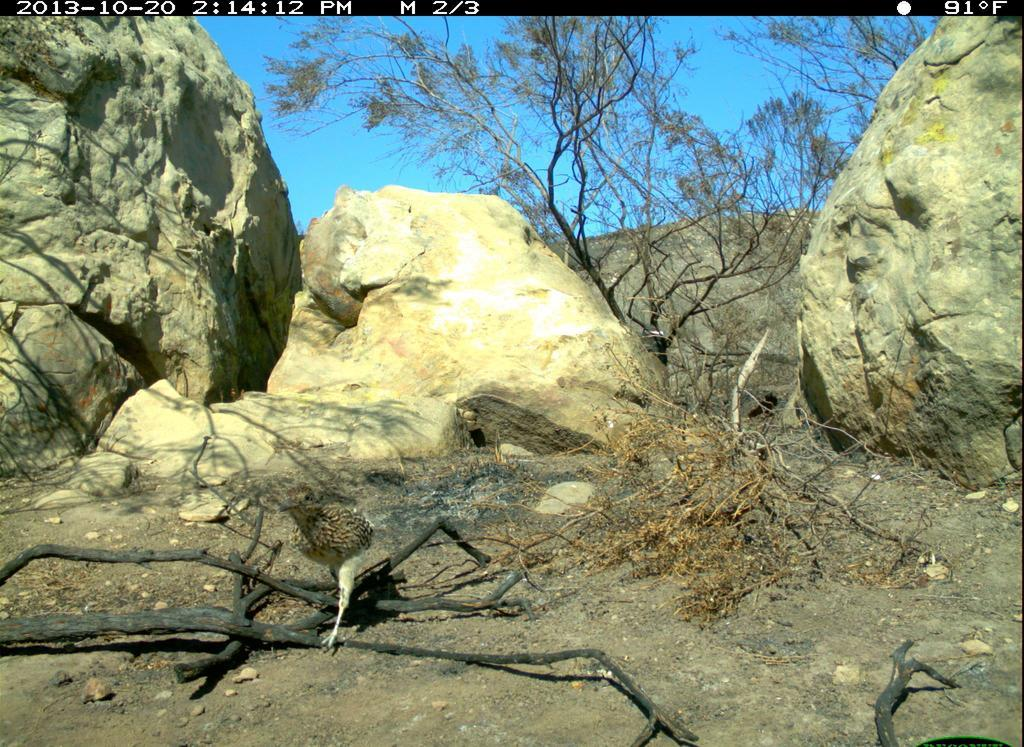bird: (265, 483, 386, 655)
